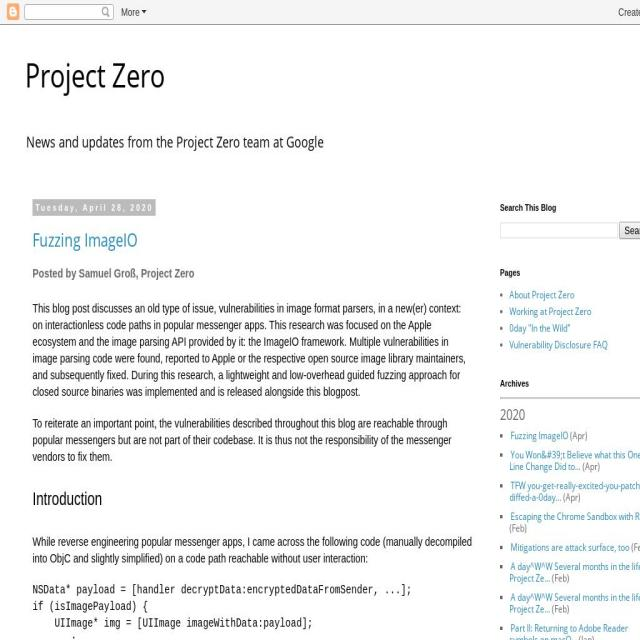field: (500, 222, 619, 238), (619, 222, 640, 239)
heading: (25, 52, 640, 98), (32, 226, 138, 252), (32, 198, 156, 216), (32, 488, 102, 509), (500, 202, 640, 212), (500, 268, 640, 278), (500, 378, 640, 388)
iframe: (0, 0, 640, 25)
link: (509, 478, 640, 504), (509, 559, 640, 585), (509, 590, 640, 616), (509, 448, 640, 473), (509, 621, 628, 640), (510, 509, 640, 523), (510, 540, 630, 554), (510, 338, 608, 352), (509, 304, 592, 318), (510, 288, 574, 302), (510, 321, 570, 335), (511, 428, 568, 442)
text: (32, 301, 466, 398), (32, 416, 452, 463), (32, 534, 472, 565), (26, 132, 324, 152), (32, 582, 412, 596), (33, 616, 313, 630), (500, 404, 640, 425), (32, 266, 194, 280), (33, 599, 148, 613), (32, 632, 76, 640), (568, 428, 588, 442), (561, 490, 581, 504), (581, 459, 600, 473), (550, 571, 569, 585), (550, 602, 569, 616), (509, 521, 527, 535), (629, 540, 640, 554), (577, 632, 594, 640)
